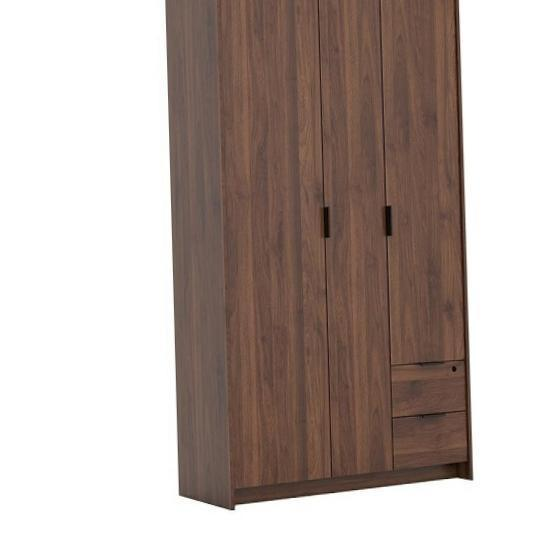Armario: (159, 3, 476, 509)
